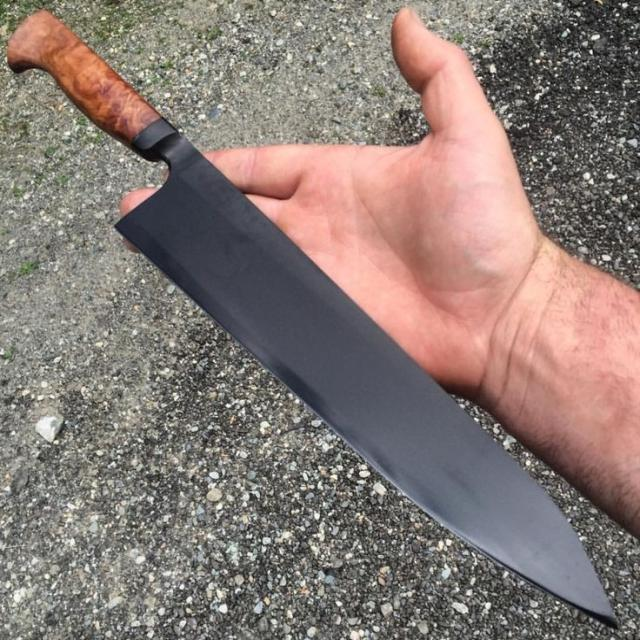knife: (10, 10, 625, 637)
